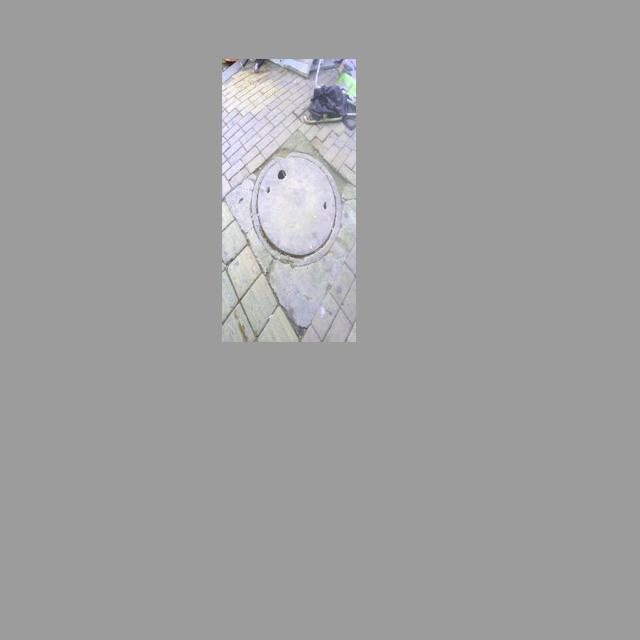broke: (252, 151, 343, 267)
